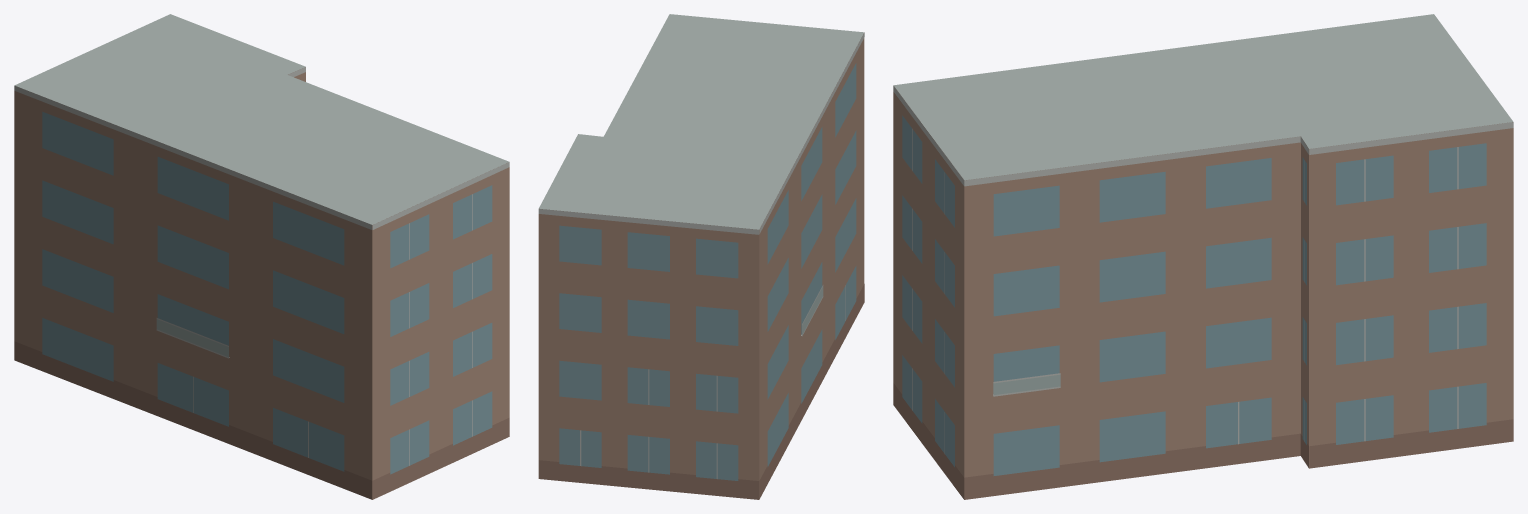
File: survey-upis-33035479.glb
3 renders of one model, left to right at view 1: azimuth 30°, elevation 25°; view 2: azimuth 150°, elevation 25°; view 3: azimuth 270°, elevation 25°, orthographic. The views are drawn at different scales.
Parts seen in each view (by area): view 1: survey-upis-33035479.tmp; view 2: survey-upis-33035479.tmp; view 3: survey-upis-33035479.tmp.
Boxes of the visible parts, left/top/right/bottom form: survey-upis-33035479.tmp: left=14, top=14, right=509, bottom=499; survey-upis-33035479.tmp: left=538, top=14, right=864, bottom=499; survey-upis-33035479.tmp: left=893, top=14, right=1513, bottom=499.
Size of the model in its own units: 14.3 by 12.8 by 22.53.
